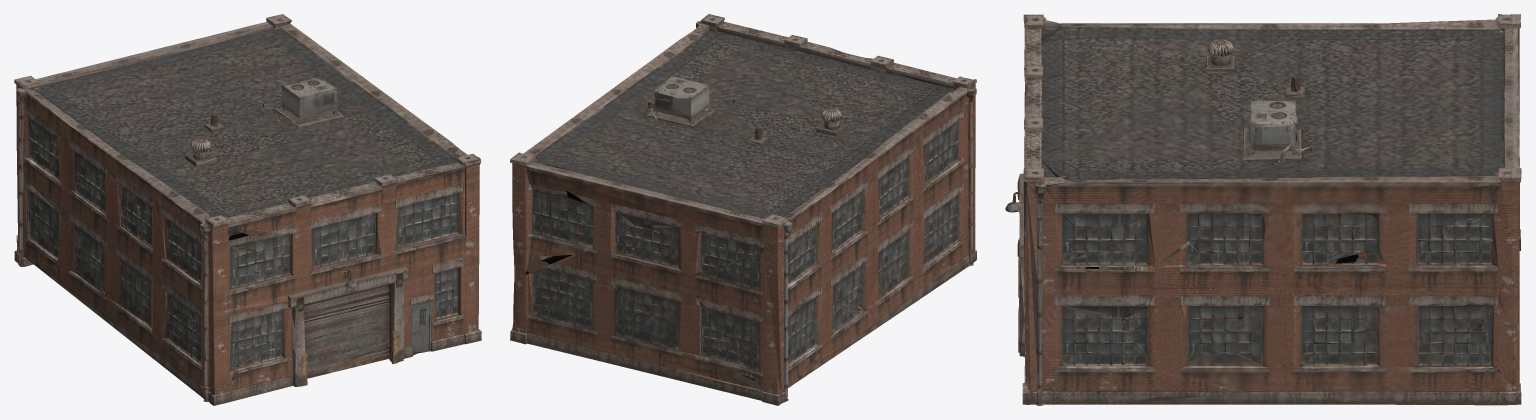
The model's file is bld-brick.glb.
3 views of the same model, side by side, from view 1: azimuth 30°, elevation 25°; view 2: azimuth 150°, elevation 25°; view 3: azimuth 270°, elevation 25° (orthographic). The views are drawn at different scales.
Parts seen in each view (by area): view 1: output_unwrapped; view 2: output_unwrapped; view 3: output_unwrapped.
Part boxes in pixels (x1,y1,x2,y2): output_unwrapped: [14, 14, 481, 405]; output_unwrapped: [510, 14, 976, 405]; output_unwrapped: [1005, 14, 1521, 405].
Bounding box in the file's own units: 1.49 × 1.02 × 1.9.
Materials: 1 (1 with a texture image).
